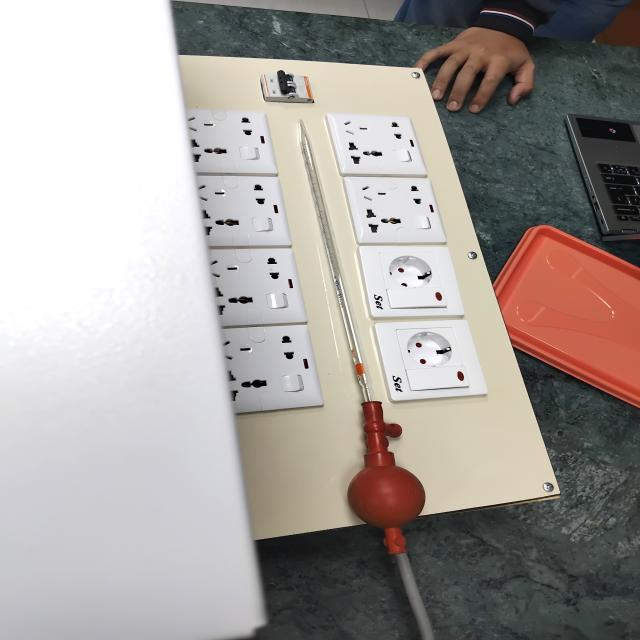Volumetric_Pipet: (261, 112, 451, 578)
